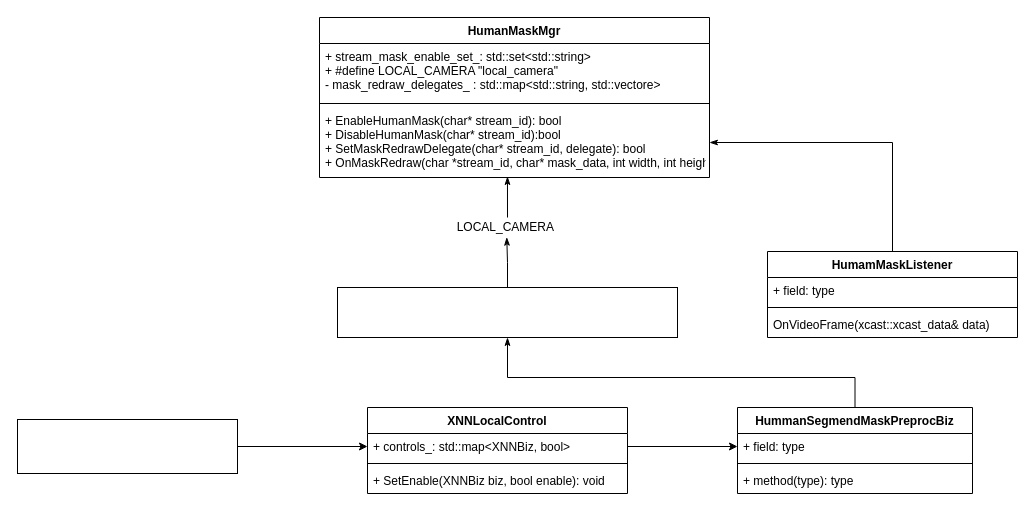
Some shapes in this 1035 by 514 pixel diagram are drawn without their labels. Here are the shapes that lost their labels. From the top down, the centre of each, then its label:
[507,312]: CameraPreprocessListener::OnCameraPreprocess
[127,446]: video_device EnableShareScreenPicInPic
